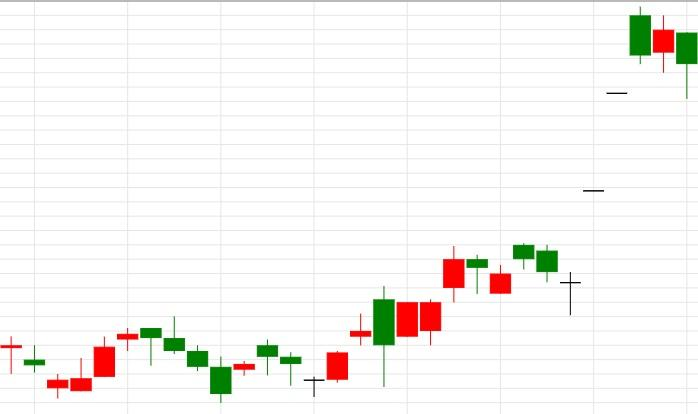bearish_engulfing_fall: (303, 286, 395, 396)
three_black_crows_fall: (47, 317, 209, 398)
